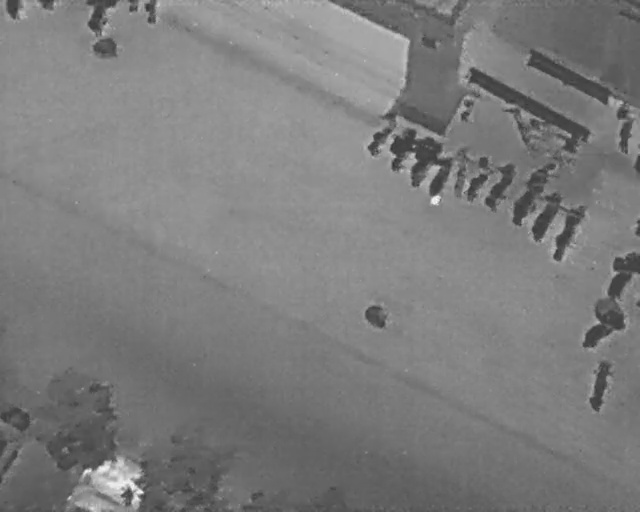Bicycle: (566, 293, 633, 358), (539, 195, 594, 266), (502, 159, 555, 231), (396, 128, 447, 191), (414, 145, 465, 208), (520, 183, 569, 247), (477, 154, 523, 215), (457, 150, 499, 208), (379, 120, 423, 174), (360, 111, 402, 161), (447, 141, 478, 202), (606, 247, 639, 301), (585, 357, 616, 414), (84, 0, 116, 39), (614, 99, 634, 155), (452, 91, 481, 127), (4, 0, 24, 23), (145, 0, 158, 27), (37, 0, 56, 12), (126, 0, 140, 14)
Car: (62, 442, 148, 511), (0, 399, 33, 482)
DontCare: (506, 101, 543, 155), (557, 124, 589, 157)
